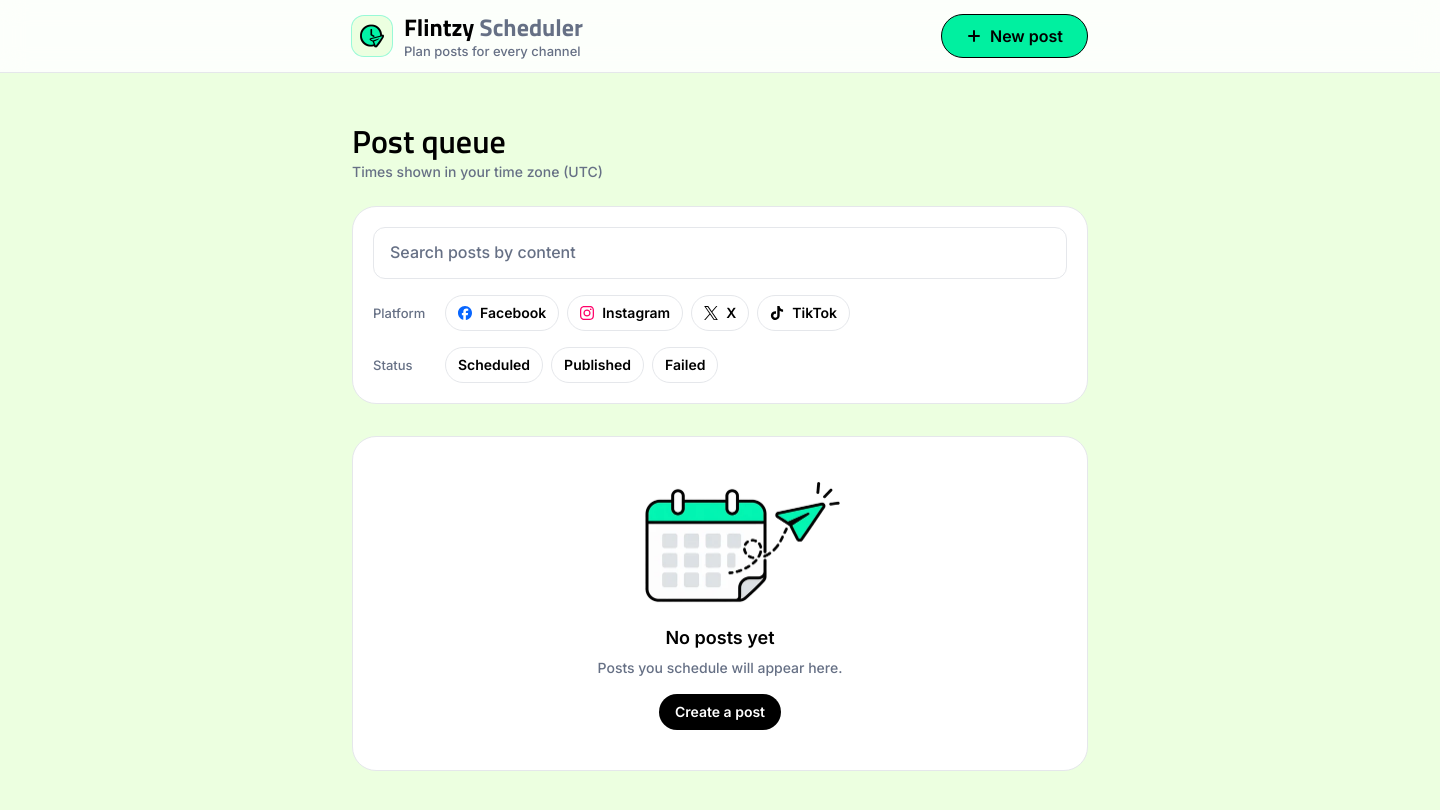
Test: post composer › opens a dialog with all composer fields
Click the button "New post": (1014, 36) [941,14,1088,58]
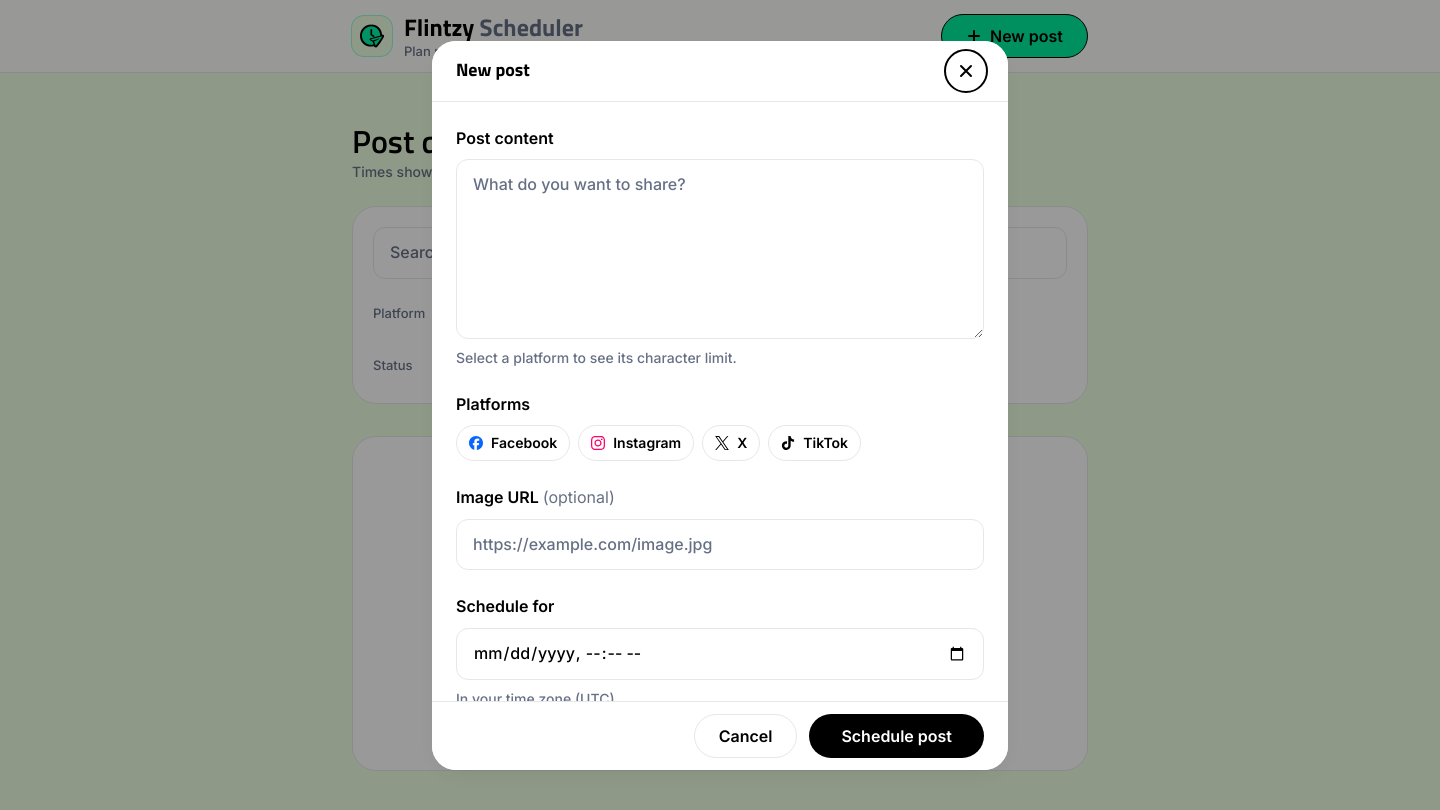
Check: the text box labelled "Post content" is shown, box [456,159,984,339]
Check: the element "Platforms" is shown, box [456,394,861,461]
Check: the field labelled "Image URL (optional)" is shown, box [456,519,984,570]
